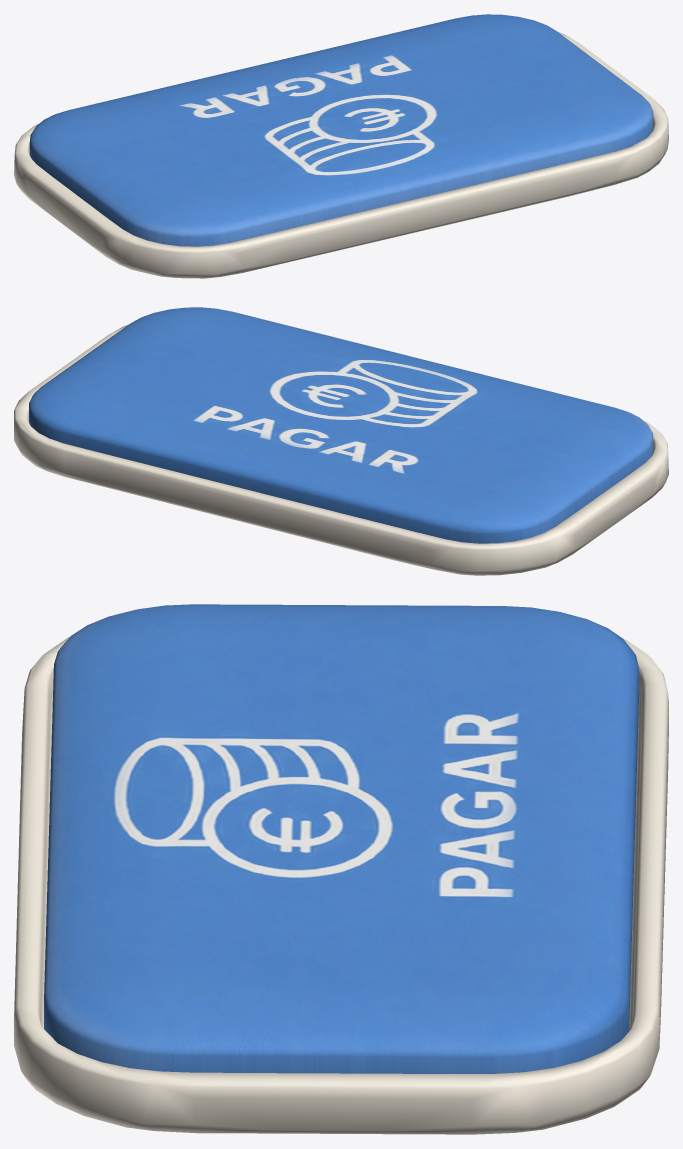
File: pulsador-pagar.glb
3 views of the same model, one above another, from view 1: azimuth 30°, elevation 25°; view 2: azimuth 150°, elevation 25°; view 3: azimuth 270°, elevation 25° (orthographic). The views are drawn at different scales.
Parts seen in each view (by area): view 1: ChamferBox003, ChamferBox004; view 2: ChamferBox003, ChamferBox004; view 3: ChamferBox003, ChamferBox004.
Boxes of the visible parts, left/top/right/bottom form: ChamferBox003: left=29, top=14, right=653, bottom=246; ChamferBox004: left=14, top=32, right=668, bottom=278; ChamferBox003: left=29, top=307, right=653, bottom=543; ChamferBox004: left=14, top=324, right=668, bottom=575; ChamferBox003: left=44, top=604, right=638, bottom=1073; ChamferBox004: left=14, top=636, right=668, bottom=1134.
Size of the model in its own units: 0.259 by 0.0228 by 0.1499.
2 materials, 1 textured.
